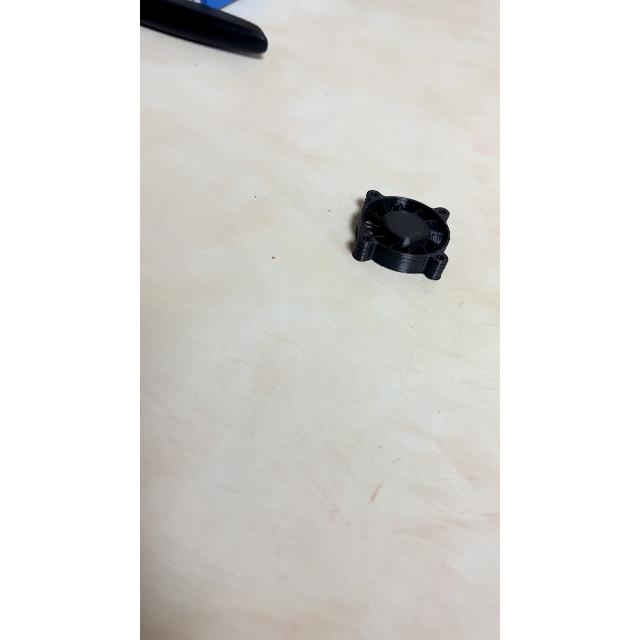Pieza_4: (342, 177, 456, 299)
